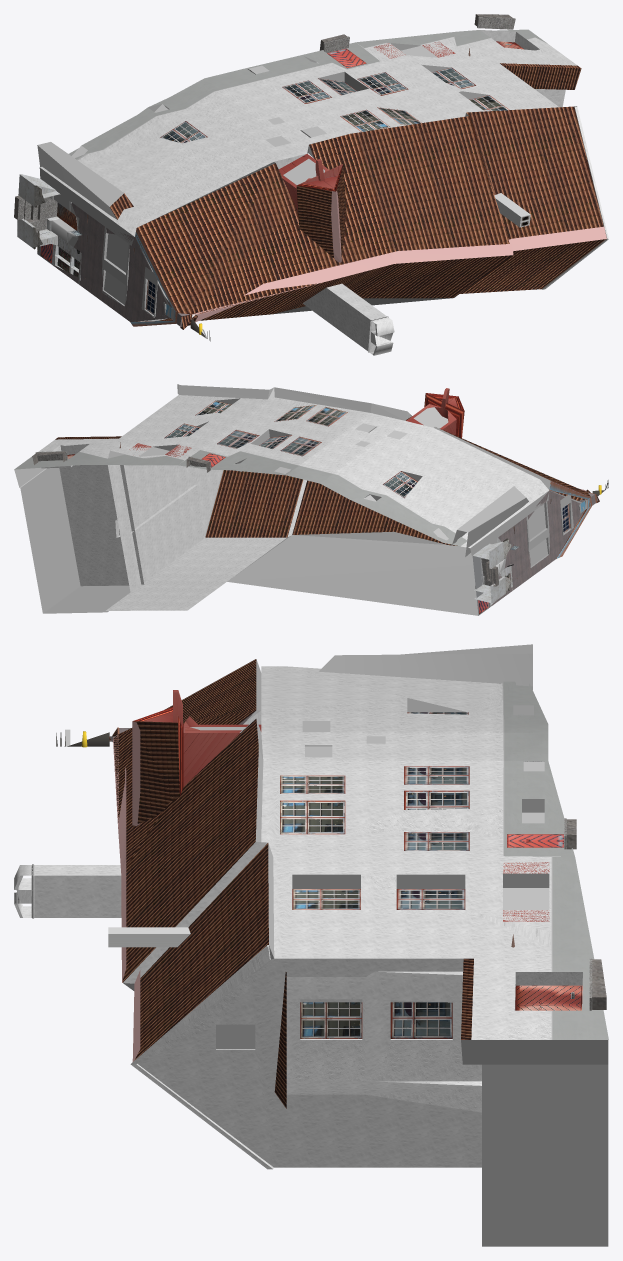
Rendered from Raekoja_plats_12-origo.obj.
3 renders of one model, top to bottom at view 1: azimuth 30°, elevation 25°; view 2: azimuth 150°, elevation 25°; view 3: azimuth 270°, elevation 25°, orthographic. The views are drawn at different scales.
Parts seen in each view (by area): view 1: Raekoja_plats_12; view 2: Raekoja_plats_12; view 3: Raekoja_plats_12.
Part boxes in pixels (left/top/right/bottom): Raekoja_plats_12: left=14, top=14, right=608, bottom=355; Raekoja_plats_12: left=14, top=384, right=608, bottom=615; Raekoja_plats_12: left=14, top=644, right=608, bottom=1246.
Size of the model in its own units: 27.75 by 11.5 by 18.76.
